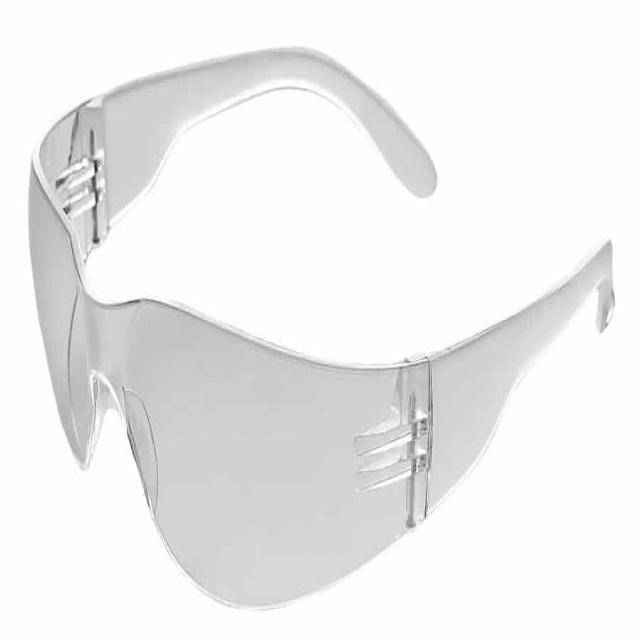Protective Glasses: (15, 38, 624, 601)
